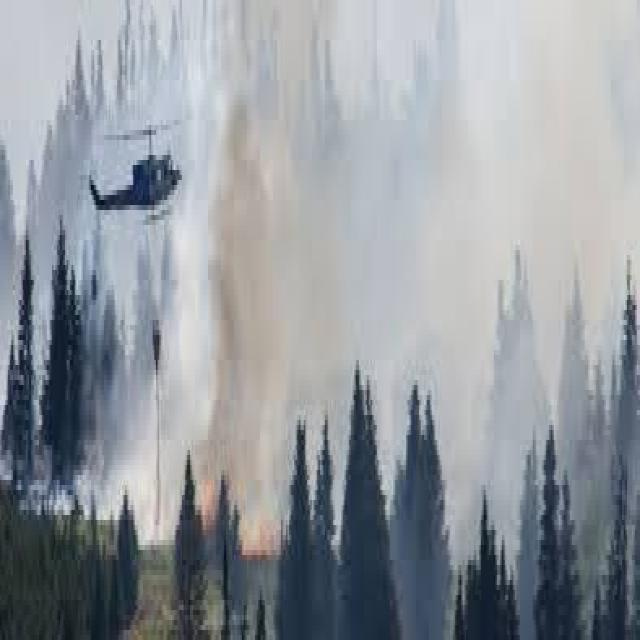Fire: (244, 515, 279, 568), (202, 482, 218, 509)
Smoke: (196, 80, 290, 568)
